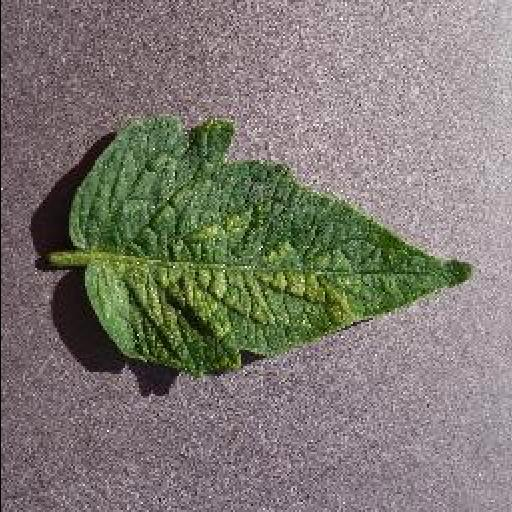disease_tomato: (68, 116, 474, 374)
